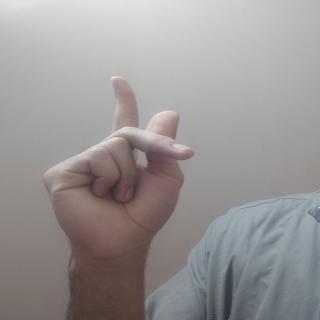DHAA: (37, 68, 201, 277)
